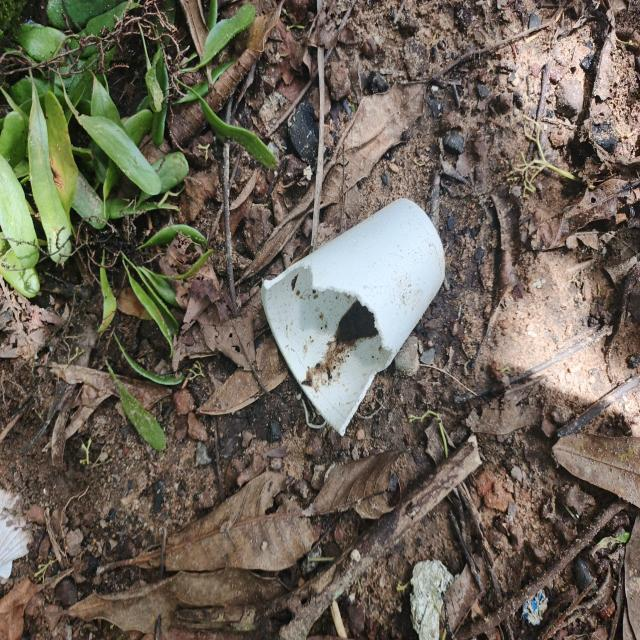plastic: (258, 192, 449, 442)
